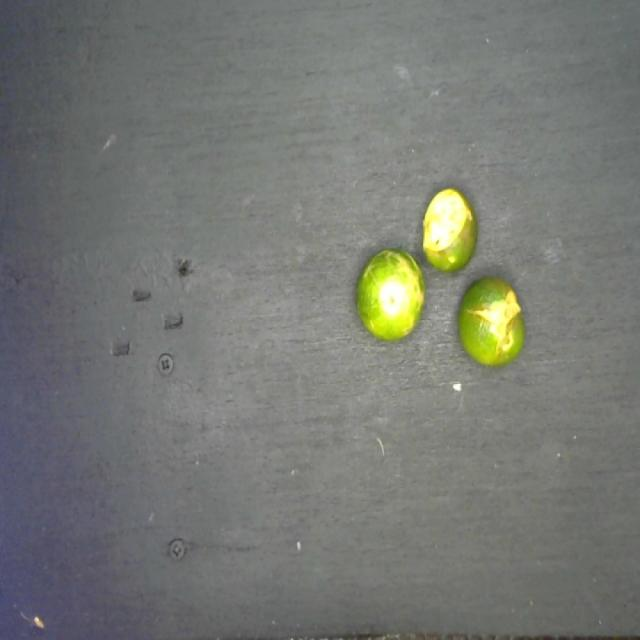biodegradable: (349, 178, 529, 378)
